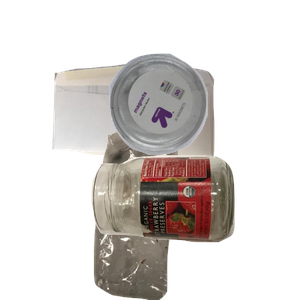glass: (89, 153, 300, 300)
paper: (50, 61, 257, 211)
plastic: (107, 51, 300, 199)
trash: (70, 120, 256, 300)
